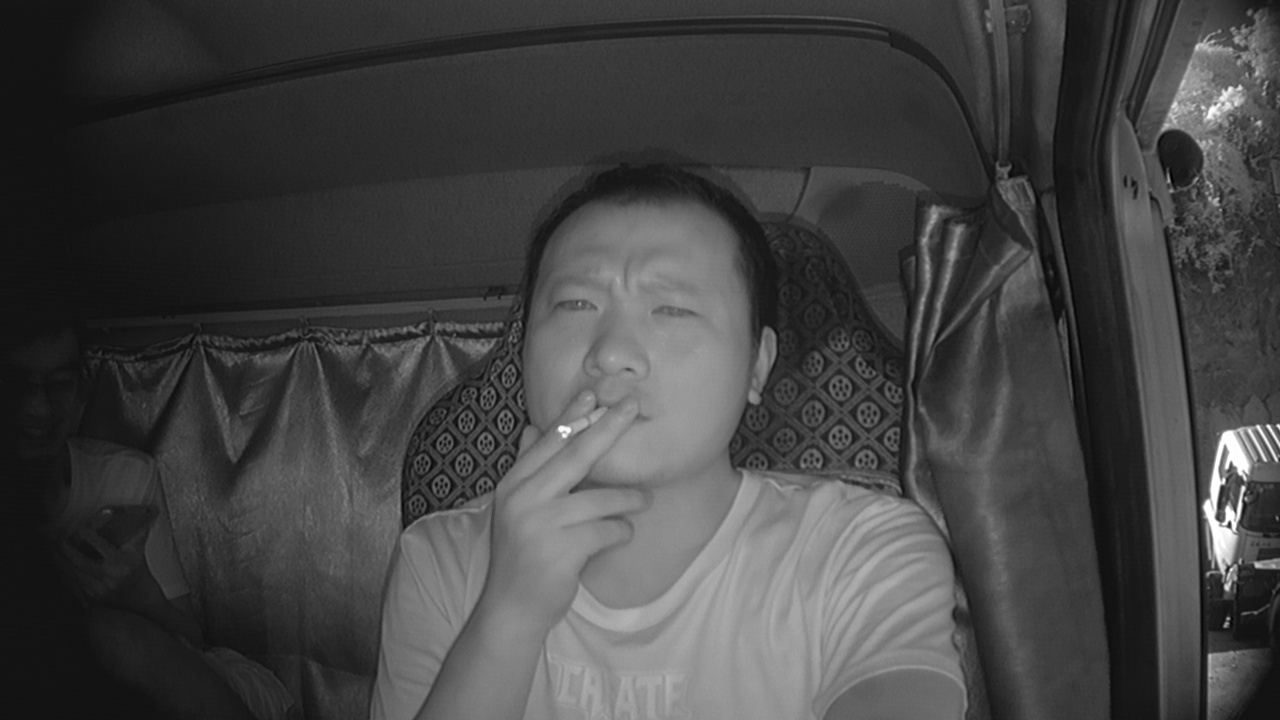hand: (500, 395, 658, 578)
